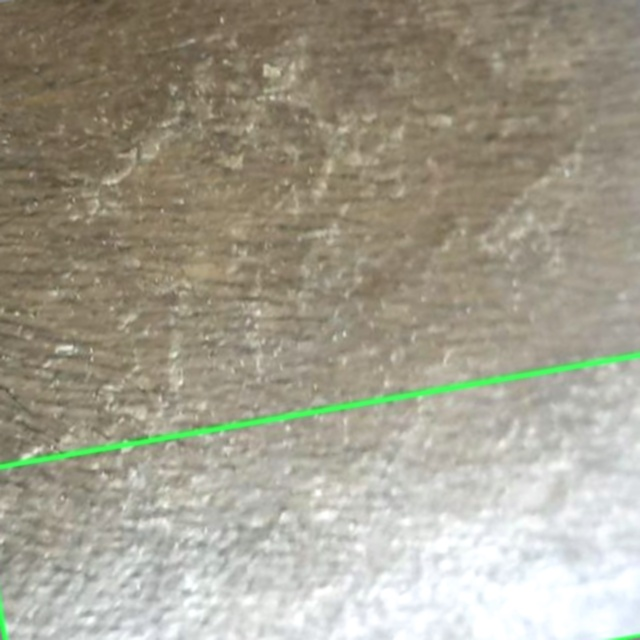Seborrheic Dermatitis: (0, 353, 639, 639)
